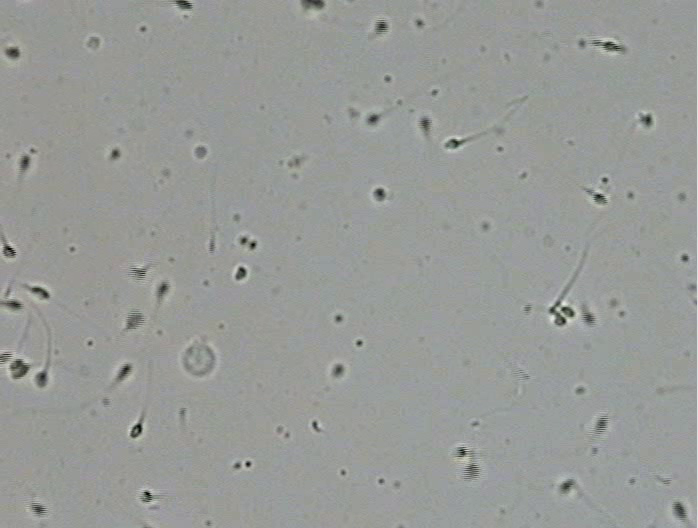Impurity: (182, 344, 215, 375), (86, 36, 100, 49)
S: (9, 359, 30, 379), (126, 310, 145, 329), (462, 461, 480, 481), (671, 501, 687, 520), (129, 265, 147, 281), (116, 363, 132, 381), (594, 415, 608, 434), (597, 41, 621, 52), (30, 286, 50, 299), (31, 502, 47, 518), (4, 299, 24, 311), (18, 153, 31, 171), (300, 1, 326, 10), (2, 244, 17, 259), (639, 113, 654, 128), (35, 371, 49, 387), (374, 19, 388, 34), (581, 311, 596, 325), (130, 422, 143, 438), (592, 192, 608, 205), (559, 479, 574, 492), (418, 116, 431, 130), (5, 47, 20, 59), (138, 491, 153, 503), (157, 281, 168, 297), (452, 446, 468, 457), (373, 188, 386, 201), (235, 266, 247, 280), (175, 1, 193, 10), (444, 139, 460, 149), (1, 352, 13, 365), (554, 314, 567, 326), (561, 306, 575, 317), (195, 146, 207, 158), (367, 113, 379, 125), (332, 365, 344, 376), (111, 149, 120, 159)
